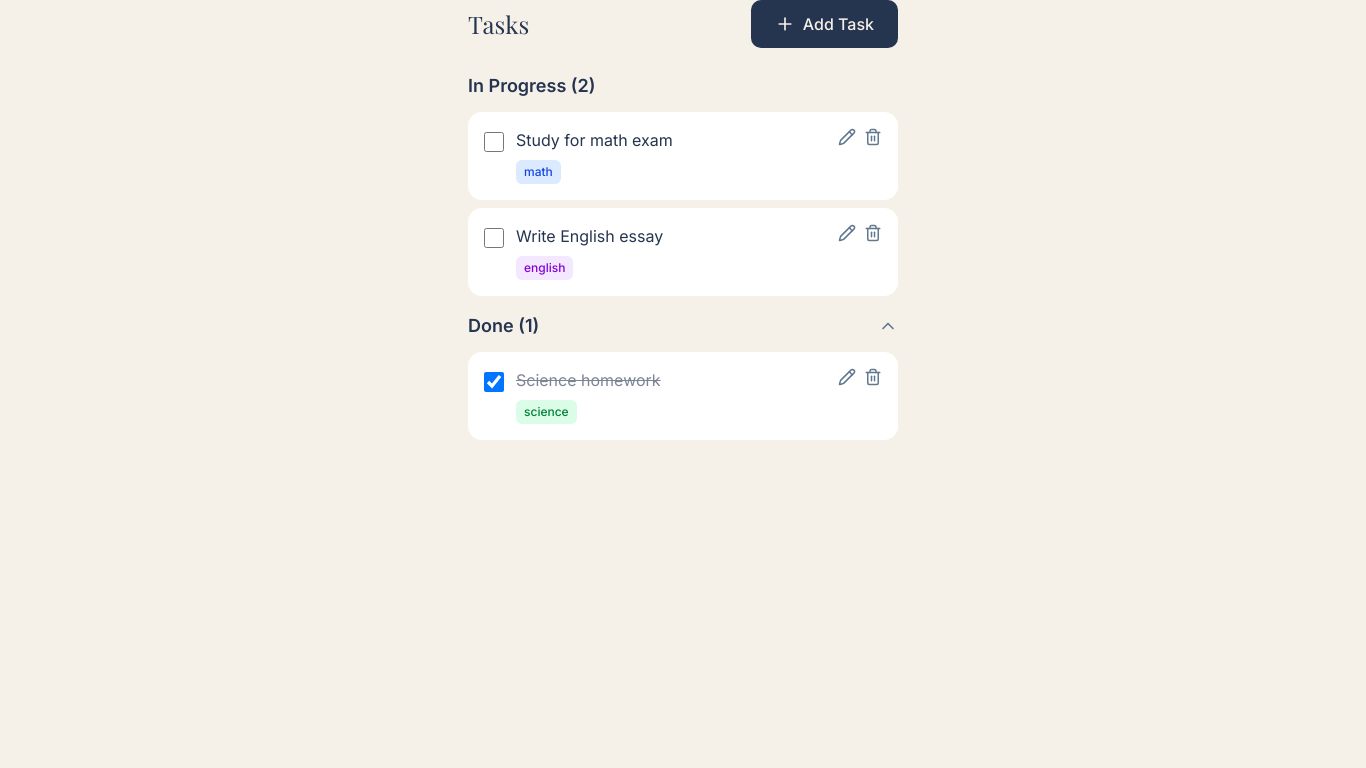
Test: TodoClient › 32.1 Test todo creation › should open create modal when Add Task button is clicked
Click the button "Add Task" at point(824, 24), box [751, 0, 898, 48]
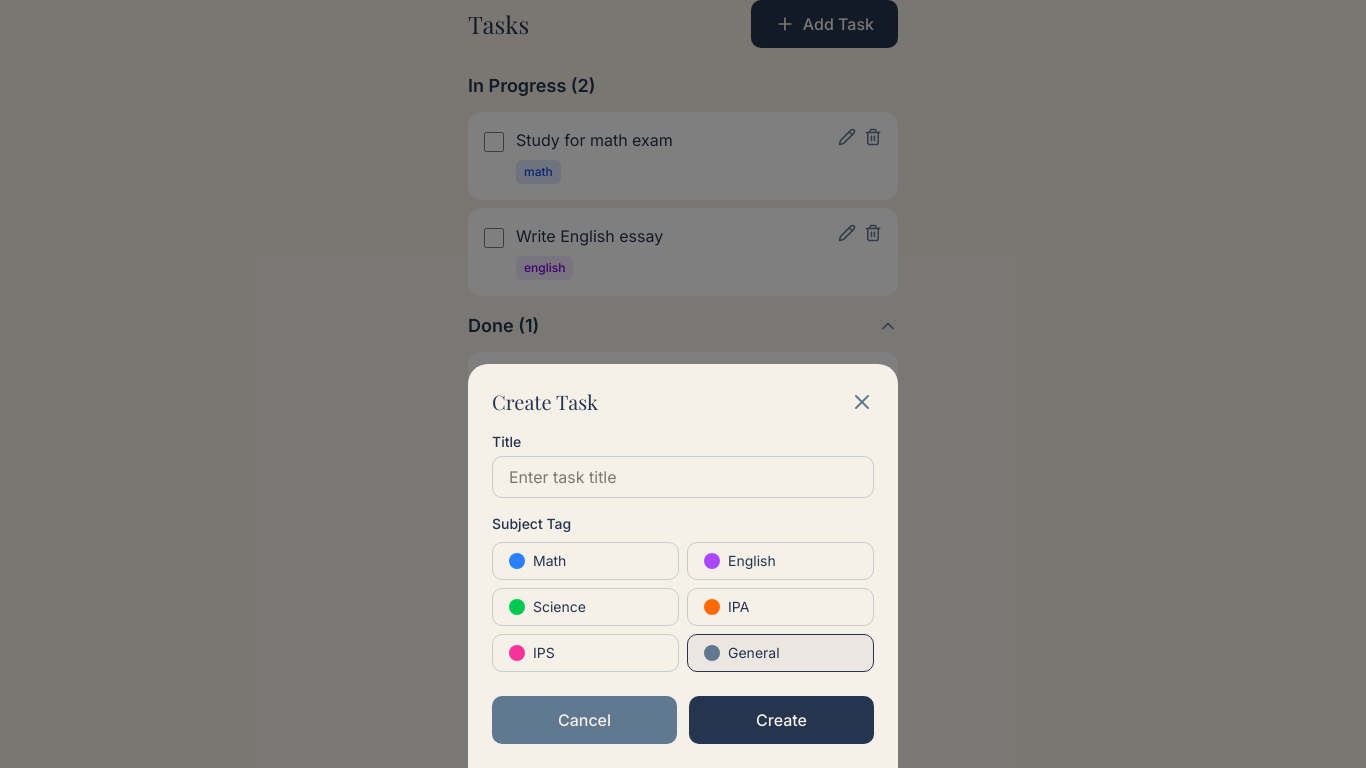
Result: the heading "Create Task" is shown at [492, 388, 598, 416]
